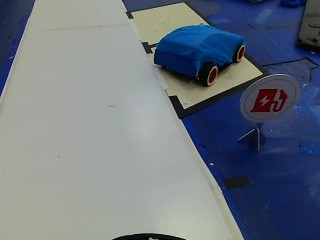battery: (240, 76, 299, 124)
car: (149, 21, 249, 93)
